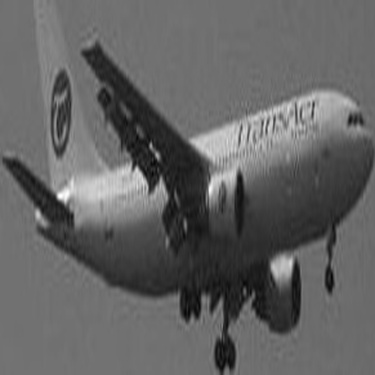airplane: (3, 4, 371, 373)
